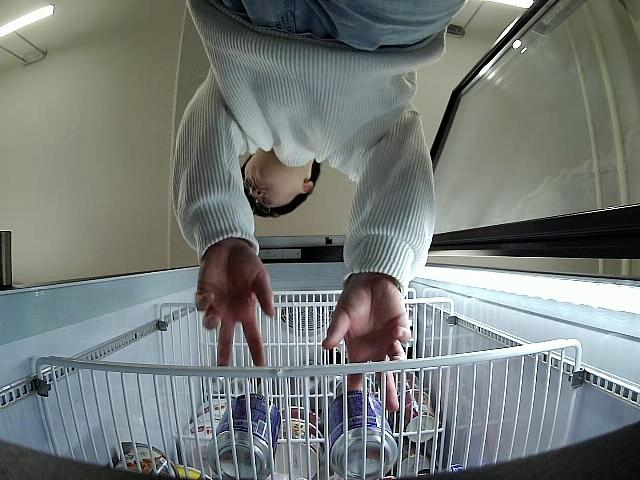00_hand: (323, 277, 411, 412), (195, 247, 275, 367)
